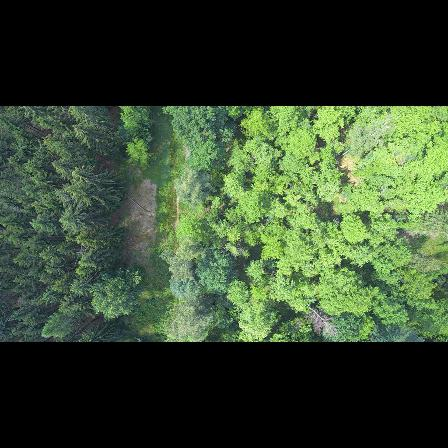Dead: (301, 300, 339, 337)
